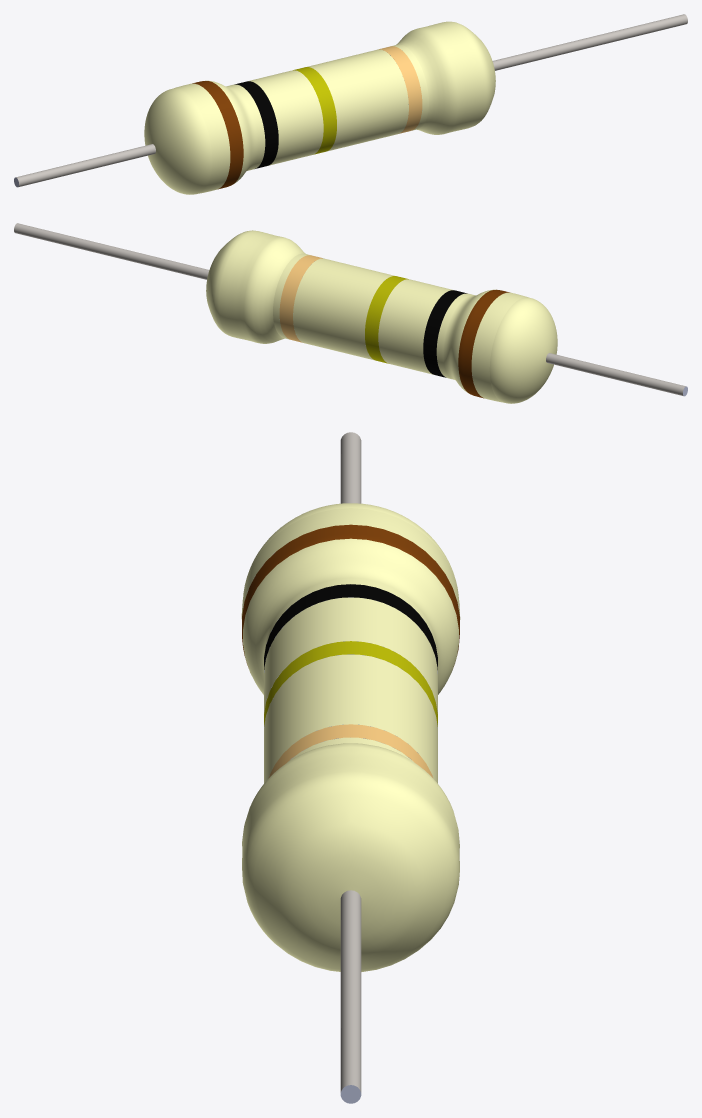
Rendered from Resistor.fbx.
The picture shows the model from 3 angles, top to bottom: view 1: azimuth 30°, elevation 25°; view 2: azimuth 150°, elevation 25°; view 3: azimuth 270°, elevation 25°; orthographic projection. The views are drawn at different scales.
Parts seen in each view (by area): view 1: Split1[8], Split1[9], Split1[4], Split1[6], Sweep4, Split1[2], Sweep3, Split1[1], Split1[7], Split1[5], Split1[3]; view 2: Split1[8], Split1[9], Split1[4], Split1[6], Sweep4, Split1[2], Sweep3, Split1[1], Split1[7], Split1[5], Split1[3]; view 3: Split1[8], Split1[2], Split1[4], Split1[6], Split1[9], Sweep4, Split1[1], Split1[5], Split1[7], Split1[3], Sweep3.
Part boxes in pixels (x1,y1,x2,y2): Split1[8]: (391,21,495,134); Split1[9]: (144,83,230,194); Split1[4]: (307,49,408,151); Split1[6]: (248,70,323,165); Sweep4: (492,14,687,70); Split1[2]: (205,80,265,184); Sweep3: (14,144,155,187); Split1[1]: (192,81,243,189); Split1[7]: (234,81,278,168); Split1[5]: (293,67,336,154); Split1[3]: (379,46,422,133); Split1[8]: (206,230,310,343); Split1[9]: (471,292,557,403); Split1[4]: (293,258,394,360); Split1[6]: (378,279,453,374); Sweep4: (14,223,209,279); Split1[2]: (436,289,495,393); Sweep3: (546,353,687,396); Split1[1]: (458,289,509,398); Split1[7]: (423,290,467,377); Split1[5]: (365,276,408,363); Split1[3]: (279,255,322,342); Split1[8]: (242,737,459,971); Split1[2]: (243,538,458,694); Split1[4]: (264,654,437,783); Split1[6]: (264,597,437,713); Split1[9]: (241,503,460,619); Sweep4: (340,890,361,1103); Split1[1]: (242,524,459,666); Split1[5]: (264,641,437,728); Split1[7]: (264,584,437,673); Split1[3]: (268,724,432,778); Sweep3: (340,432,361,503).
Bounding box in the file's own units: 2.93 × 0.4148 × 0.4148.
